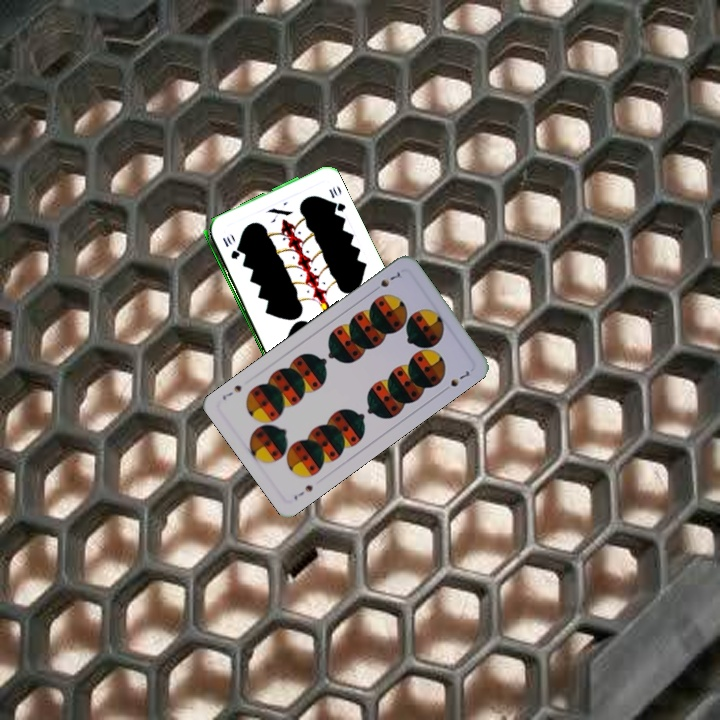G10: (218, 233, 240, 262)
S7: (369, 268, 403, 295), (290, 481, 316, 503)
